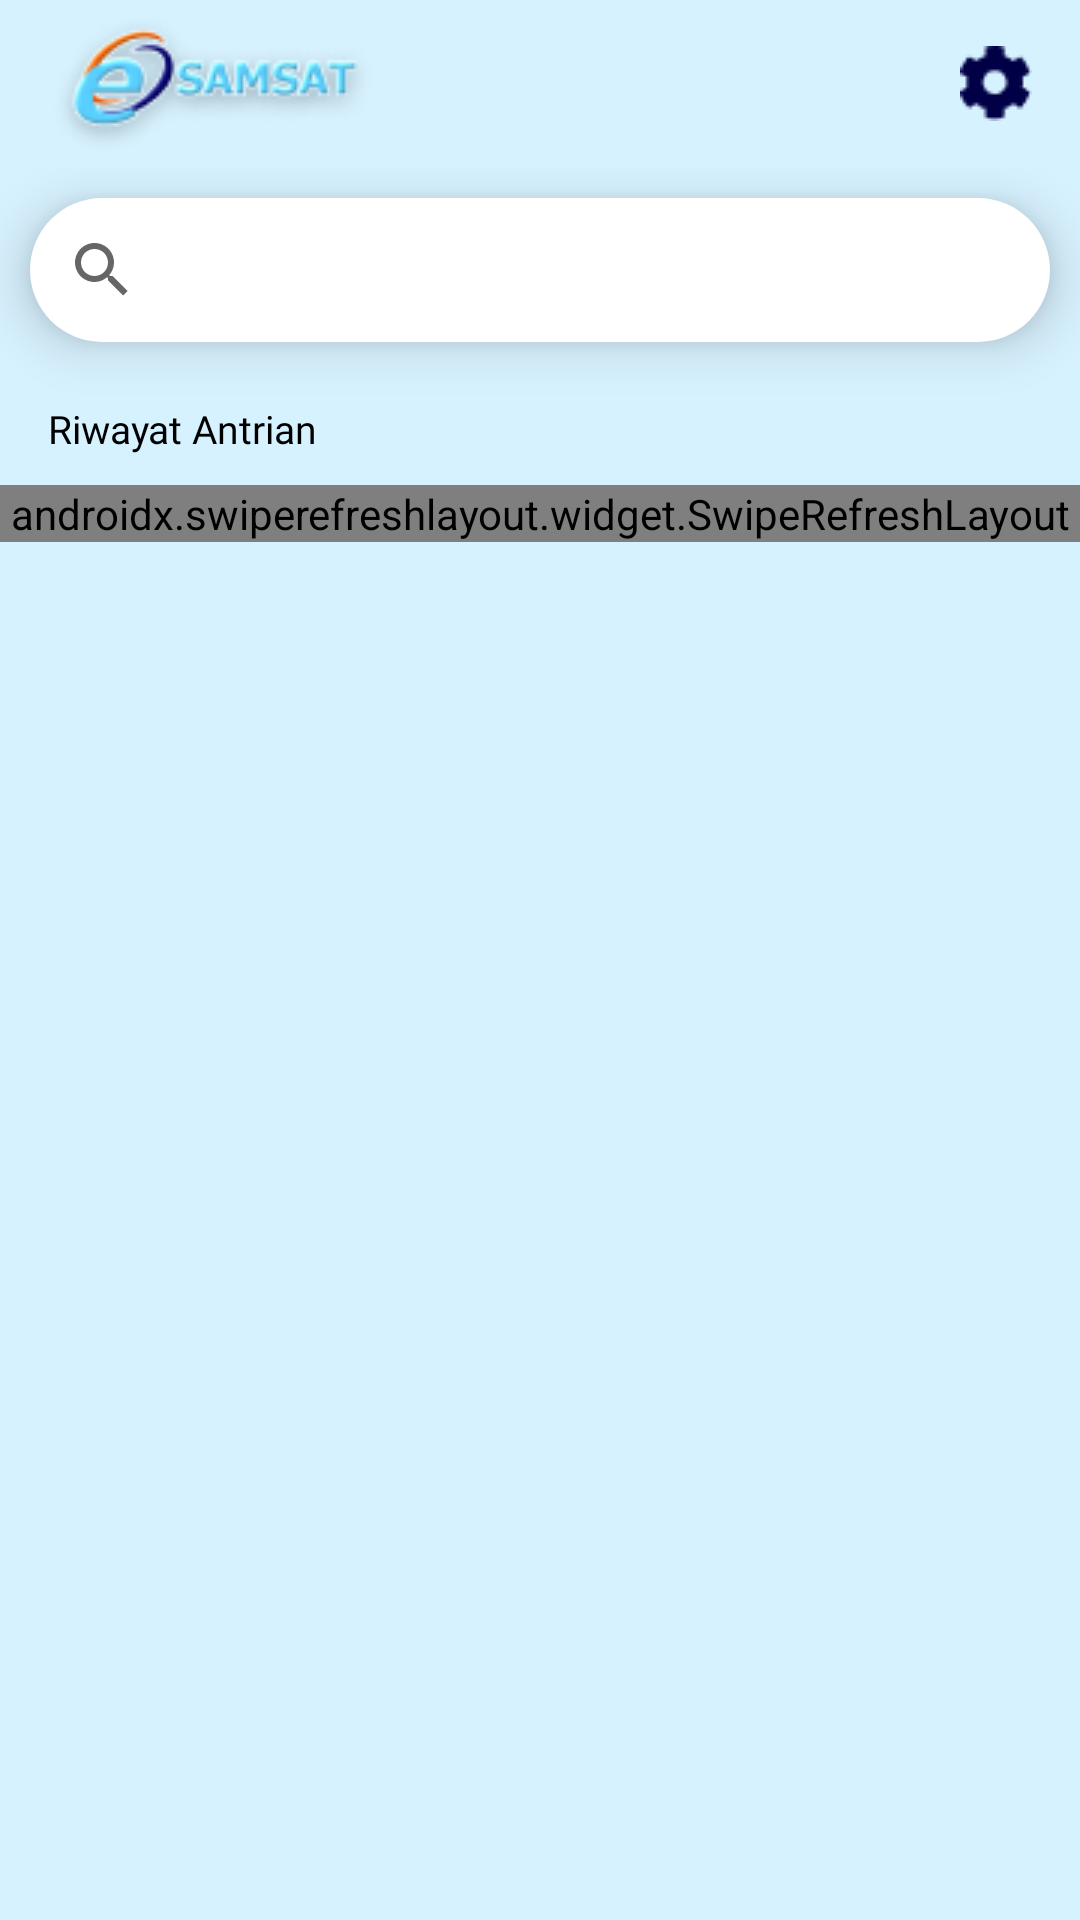

Icons on this 1080*1920 Android screen, each with the point to tap as [x,y]:
setting: [996,83]
